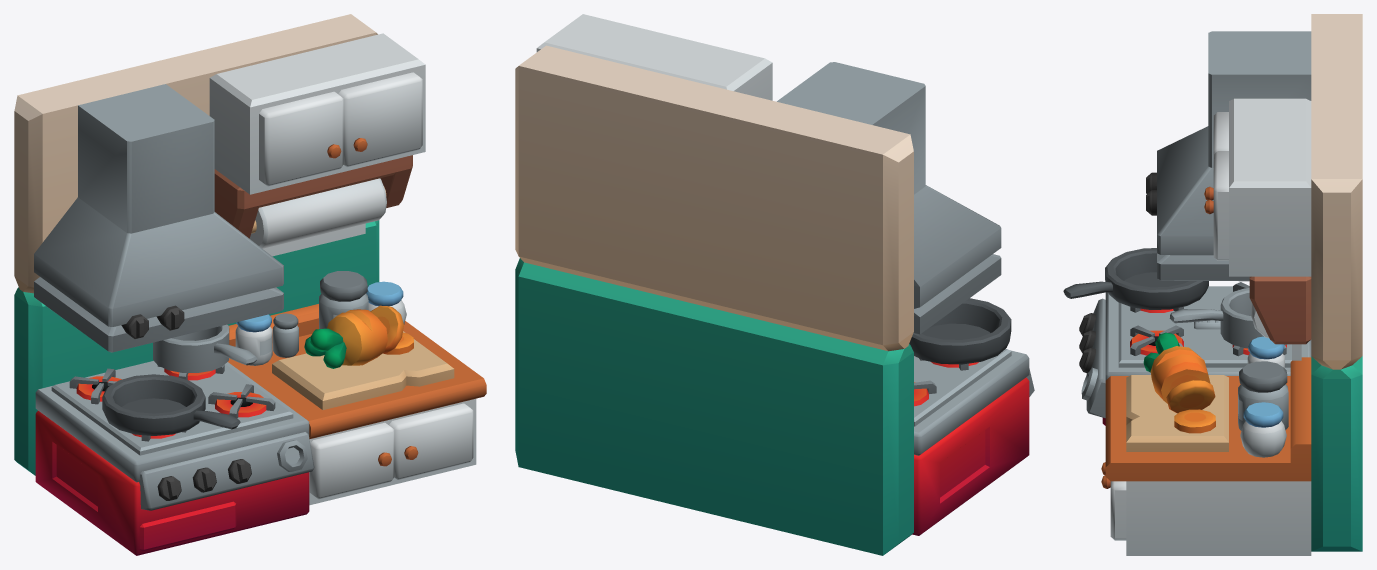
The model's file is decorated.glb.
The picture shows the model from 3 angles, left to right: view 1: azimuth 30°, elevation 25°; view 2: azimuth 150°, elevation 25°; view 3: azimuth 270°, elevation 25°; orthographic projection. The views are drawn at different scales.
Visible parts, largest first — view 1: wall_decorated; view 2: wall_decorated; view 3: wall_decorated.
Part boxes in pixels (bbox=[...]): wall_decorated: bbox=[14, 14, 486, 555]; wall_decorated: bbox=[515, 14, 1034, 555]; wall_decorated: bbox=[1063, 14, 1362, 555].
Size of the model in its own units: 4.01 by 4 by 2.91.
1 material, 1 textured.
